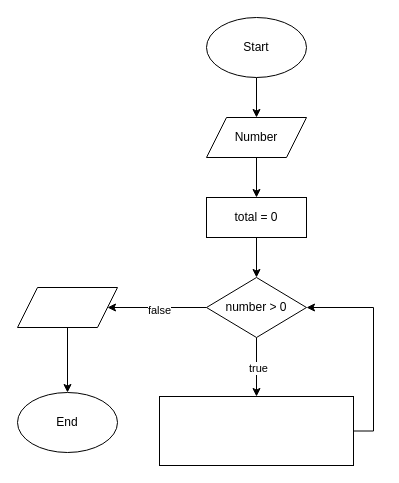
Image size: 399x483. Some labels were removed from this diagram. Each missing label, with the centre of its shape:
"digit = number % 10 total = total + digit number = Math.floor(number/10)" belongs at pixel 256 431.
"print sum" belongs at pixel 67 307.
